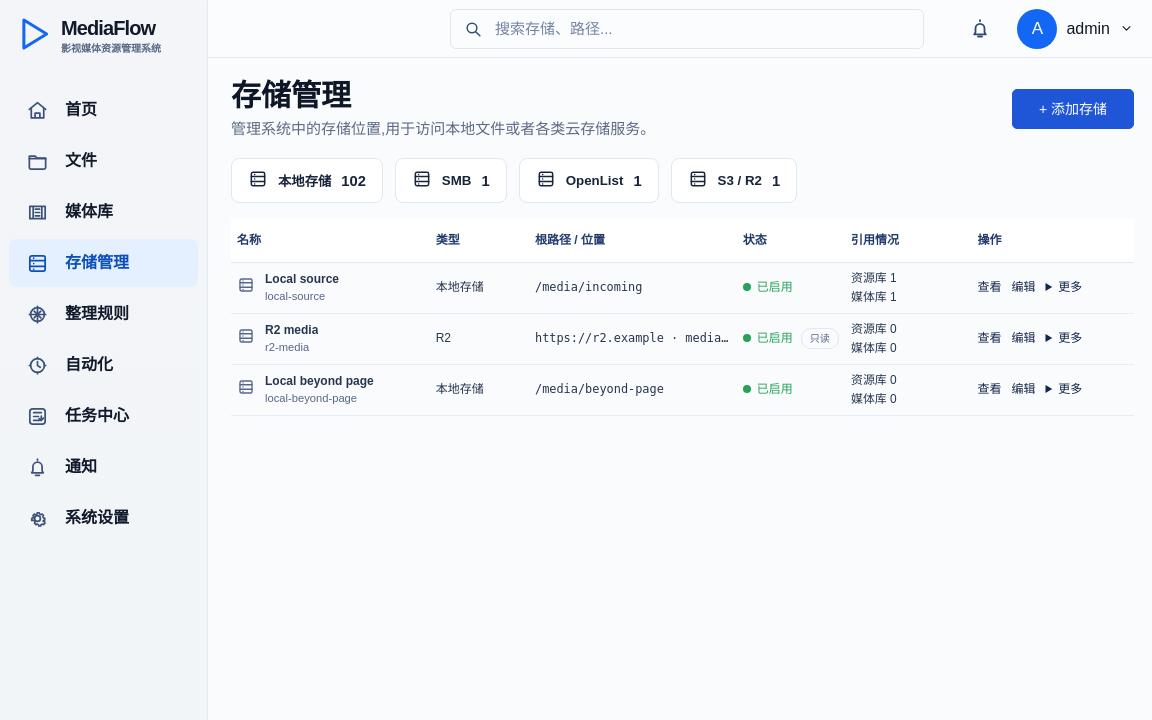
Test: Storage management journey › applies the shared top-bar search on the server side
The width and height of the screenshot is (1152, 720).
Expected: the heading "存储管理" is shown, [231,79,351,112]
Expected: the table is shown, [231,219,1134,416]
Type "r2.example" into the search field labelled "搜索存储、路径". click: (702, 28)
box: [493,19,911,38]
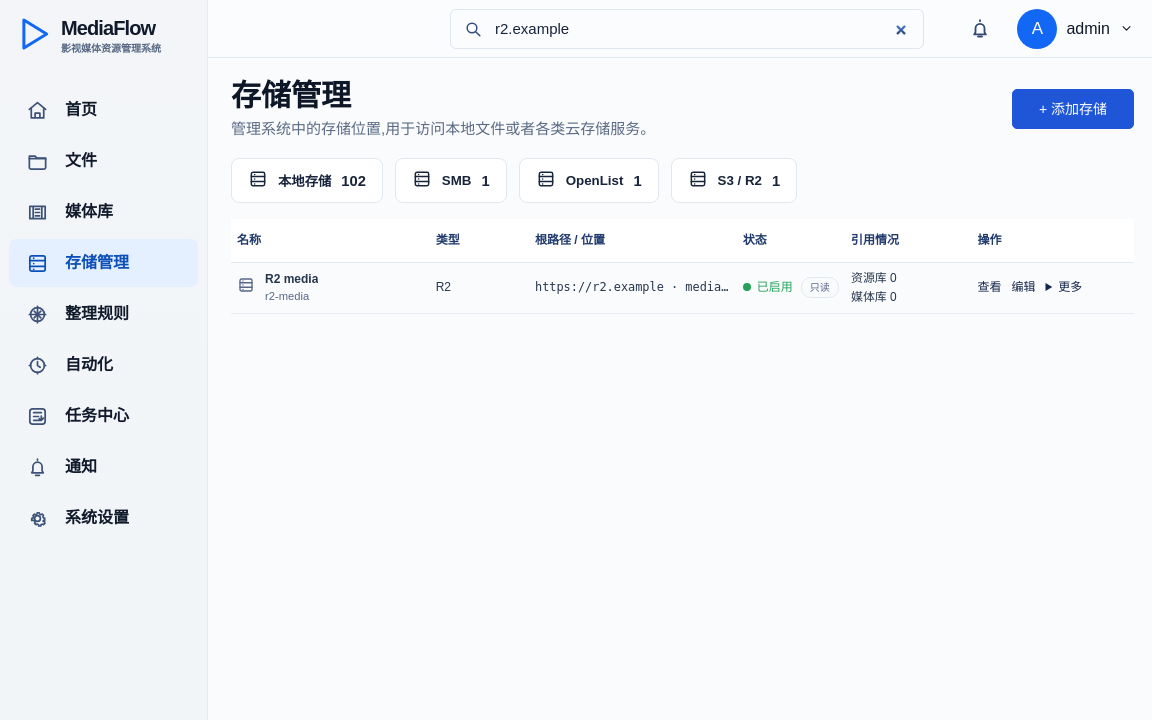
Expected: the text "R2 media" is shown, [265,270,318,288]
Expected: the number of rows is 2, [231,219,1134,262]; [231,262,1134,313]
A Storage that lives beyond the first bounded page is still findable.
Replace the text in the search field named "搜索存储、路径" with "local-beyond-page". click: (702, 28)
box: [493,19,911,38]
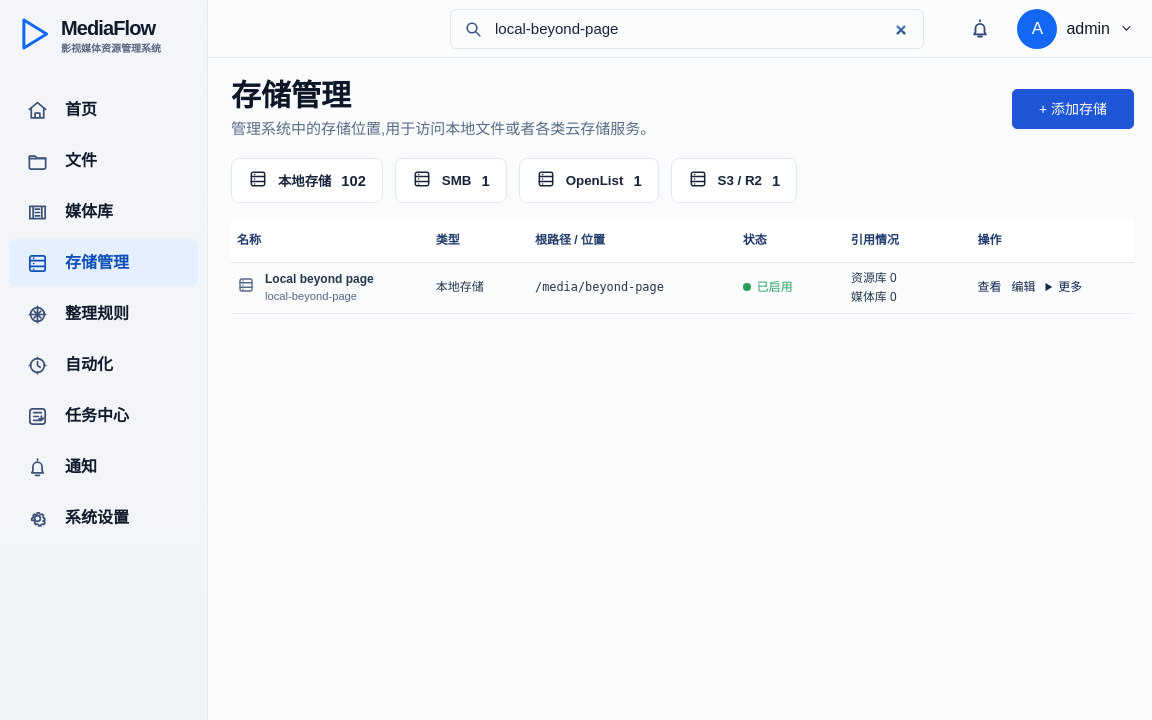
Expected: the text "Local beyond page" is shown, [265,270,374,288]
A term with no match is a truthful empty state, not an error.
Replace the text in the search field named "搜索存储、路径" with "no-such-storage". click: (702, 28)
box: [493,19,911,38]
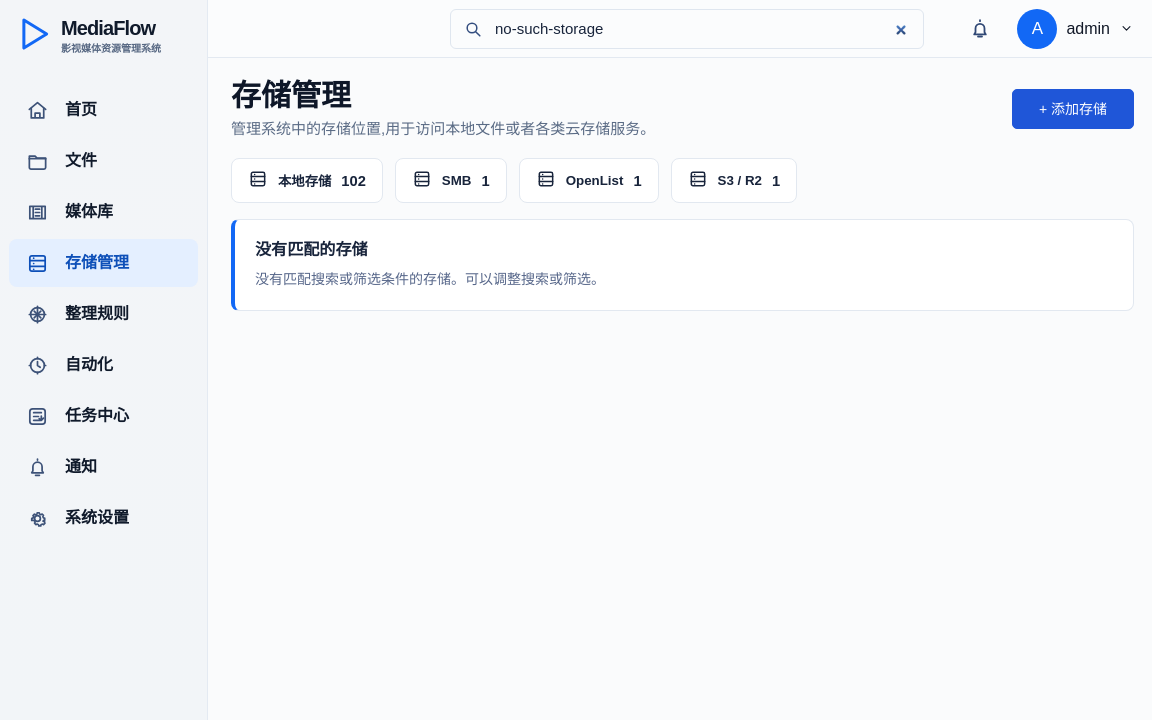
Expected: the text "没有匹配搜索或筛选条件的存储。可以调整搜索或筛选。" is shown, [255,271,605,287]
